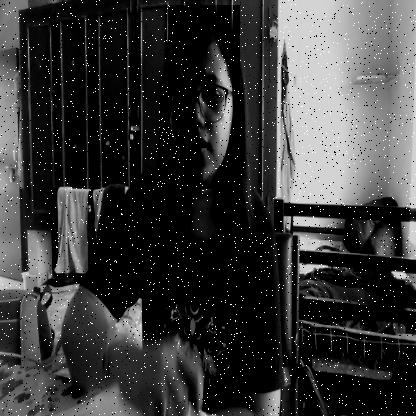Normal: (166, 6, 240, 190)
